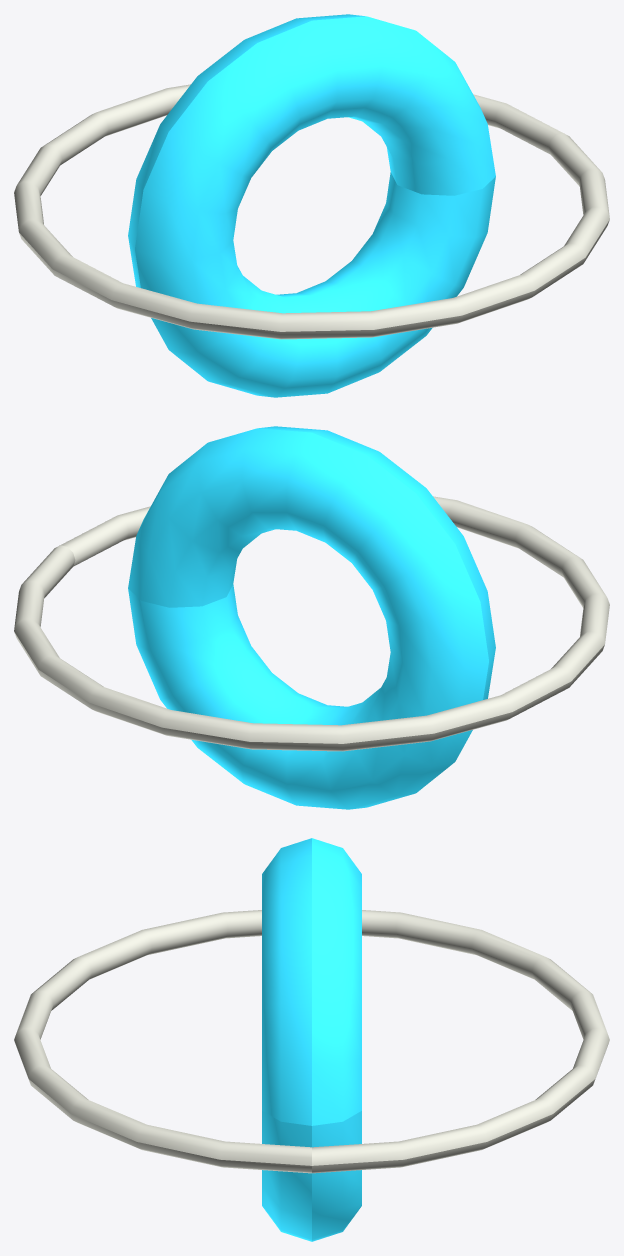
Rendered from pickup-shield.glb.
The picture shows the model from 3 angles, top to bottom: view 1: azimuth 30°, elevation 25°; view 2: azimuth 150°, elevation 25°; view 3: azimuth 270°, elevation 25°; orthographic projection.
Parts seen in each view (by area): view 1: pickup_core, capture_ring; view 2: pickup_core, capture_ring; view 3: pickup_core, capture_ring.
Boxes of the visible parts, x1,y1,x2,y2 form: pickup_core: (128, 14, 495, 397); capture_ring: (14, 84, 609, 339); pickup_core: (128, 426, 495, 809); capture_ring: (14, 496, 609, 751); pickup_core: (262, 838, 361, 1241); capture_ring: (14, 910, 609, 1173).
Size of the model in its own units: 498 by 340 by 498.
